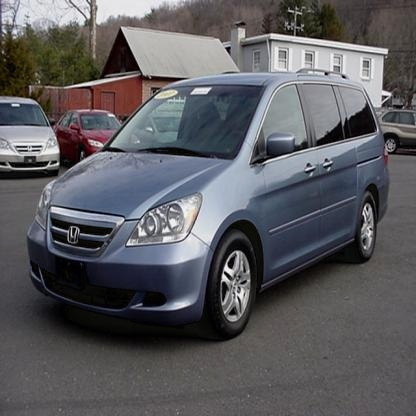Vehicle: (25, 69, 394, 341)
